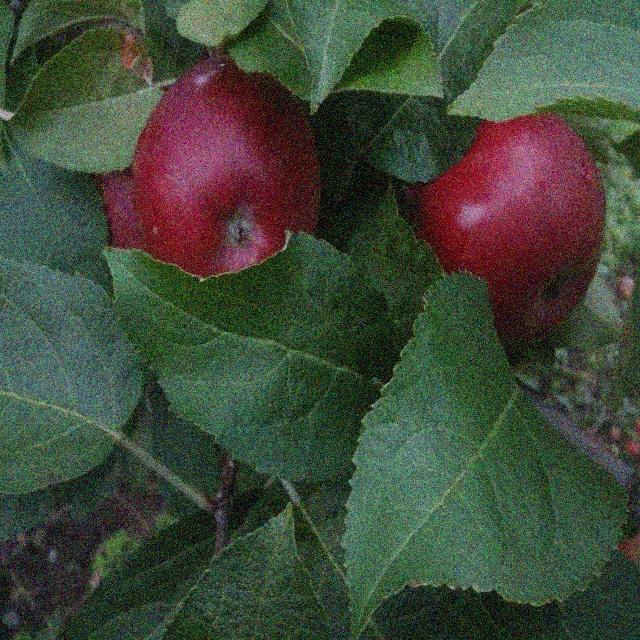red apple: (393, 103, 613, 354), (106, 54, 328, 284)
